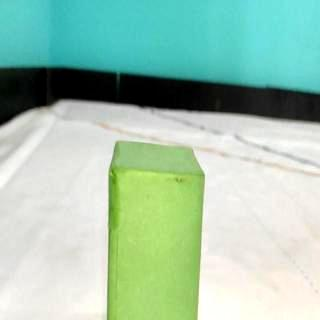greenbox: (106, 138, 208, 320)
